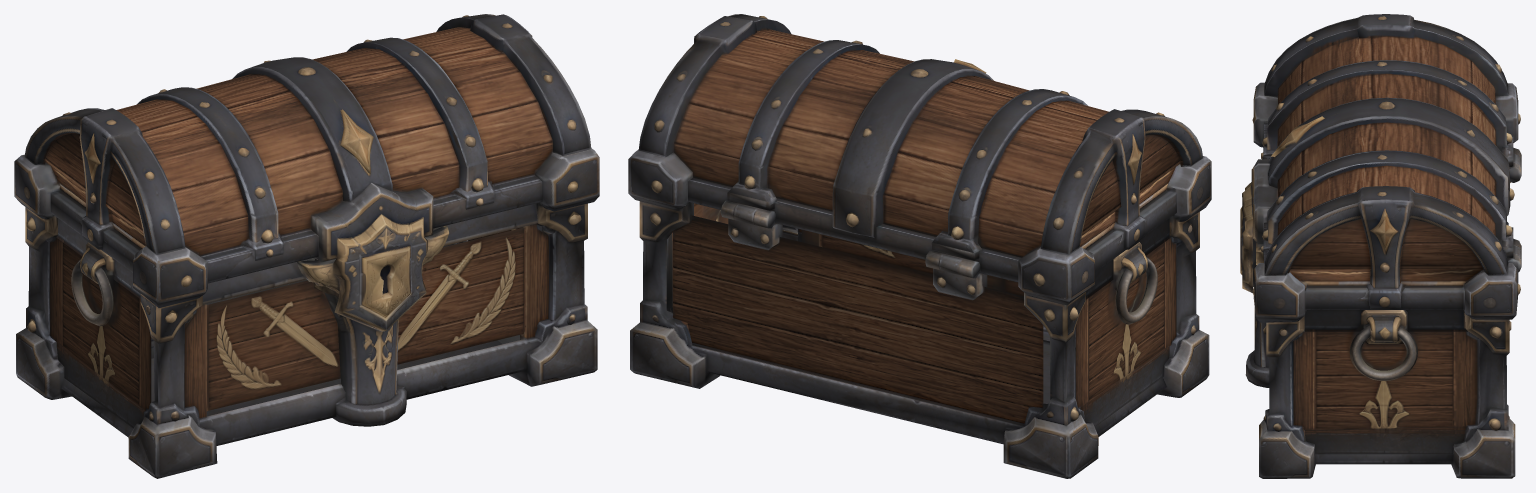
Rendered from weapon storage.glb.
The picture shows the model from 3 angles, left to right: view 1: azimuth 30°, elevation 25°; view 2: azimuth 150°, elevation 25°; view 3: azimuth 270°, elevation 25°; orthographic projection. The views are drawn at different scales.
Visible parts, largest first — view 1: tripo_node_36835f8d-b0e9-4897-b692-72fd8d36ae4d; view 2: tripo_node_36835f8d-b0e9-4897-b692-72fd8d36ae4d; view 3: tripo_node_36835f8d-b0e9-4897-b692-72fd8d36ae4d.
Part boxes in pixels (<box>): tripo_node_36835f8d-b0e9-4897-b692-72fd8d36ae4d: <box>14,14,599,478</box>; tripo_node_36835f8d-b0e9-4897-b692-72fd8d36ae4d: <box>628,14,1211,478</box>; tripo_node_36835f8d-b0e9-4897-b692-72fd8d36ae4d: <box>1240,14,1521,478</box>.
Size of the model in its own units: 0.9995 by 0.6567 by 0.5991.
1 material, 1 textured.
